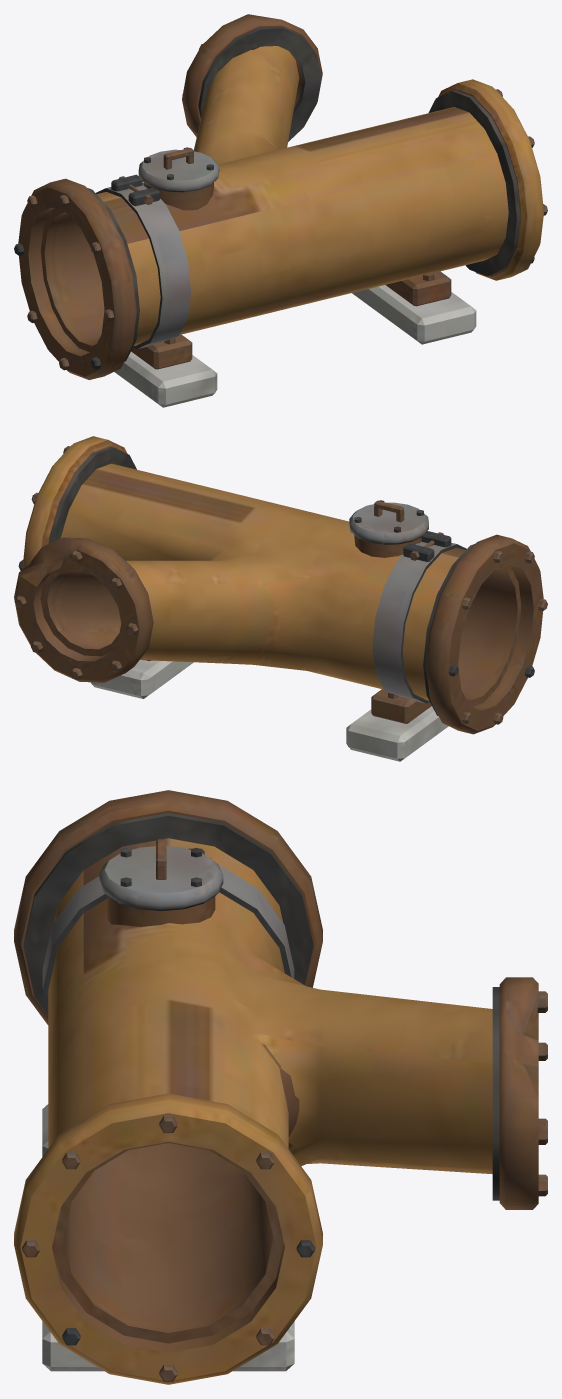
File: Y19_sewer_pipe_junction_v2.glb
3 views of the same model, one above another, from view 1: azimuth 30°, elevation 25°; view 2: azimuth 150°, elevation 25°; view 3: azimuth 270°, elevation 25° (orthographic). The views are drawn at different scales.
Parts seen in each view (by area): view 1: Three way cast sewer fitting; view 2: Three way cast sewer fitting; view 3: Three way cast sewer fitting.
Boxes of the visible parts, box(x1,y1,x2,y2) form: Three way cast sewer fitting: box(14, 14, 547, 407); Three way cast sewer fitting: box(14, 436, 547, 761); Three way cast sewer fitting: box(14, 790, 547, 1384).
Size of the model in its own units: 2 by 0.9514 by 1.38.
Materials: 6 (6 with a texture image).
